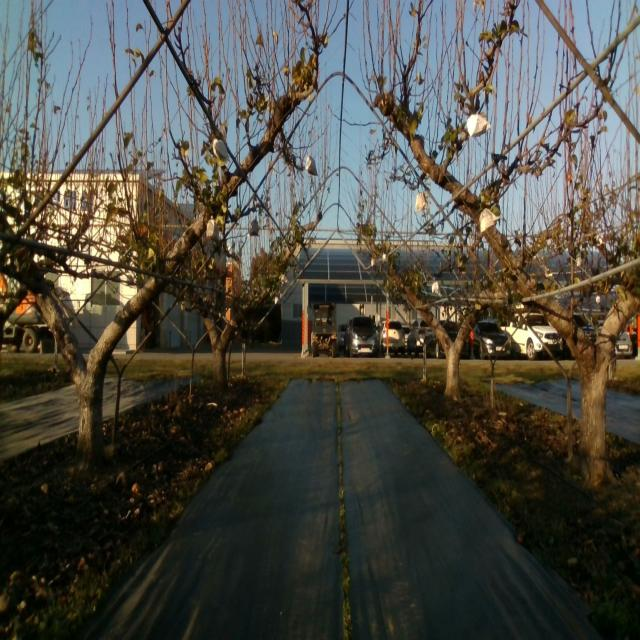pearbags: (465, 113, 492, 139), (479, 208, 500, 232), (213, 138, 230, 162), (206, 215, 219, 241), (415, 190, 428, 212), (306, 154, 318, 177), (249, 216, 259, 237)
